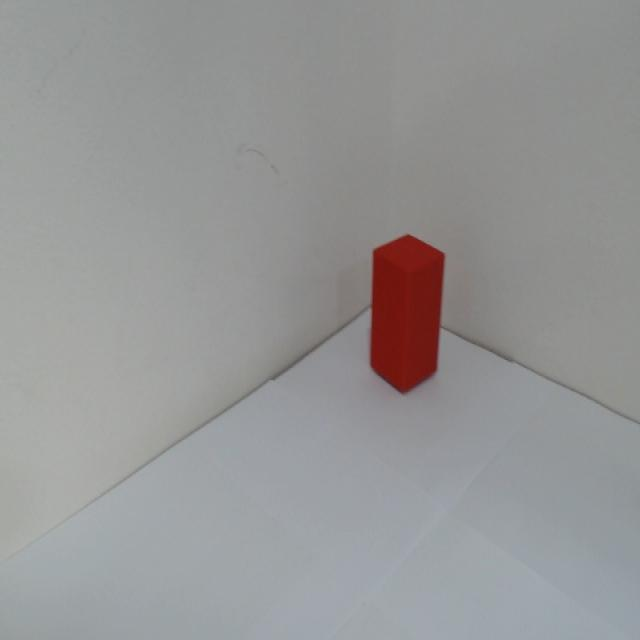cube: (364, 227, 448, 399)
